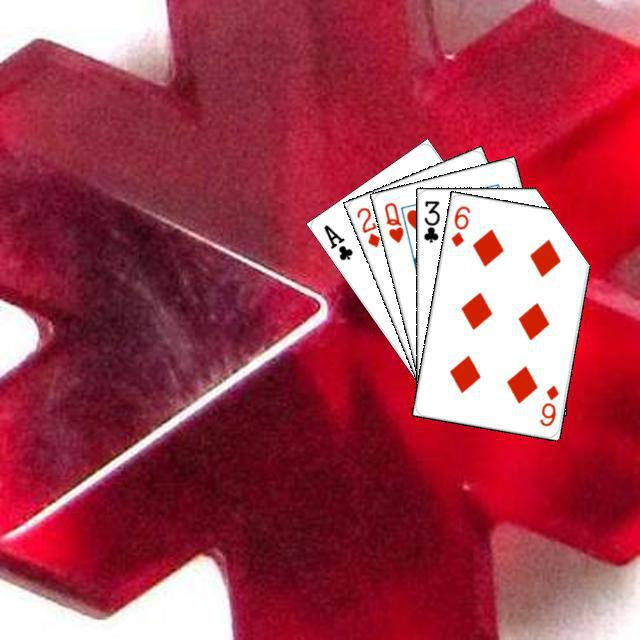2d: (352, 202, 382, 249)
3c: (419, 196, 441, 244)
6d: (446, 201, 472, 249), (535, 380, 560, 428)
Ac: (319, 219, 355, 262)
Qh: (379, 197, 405, 245)
